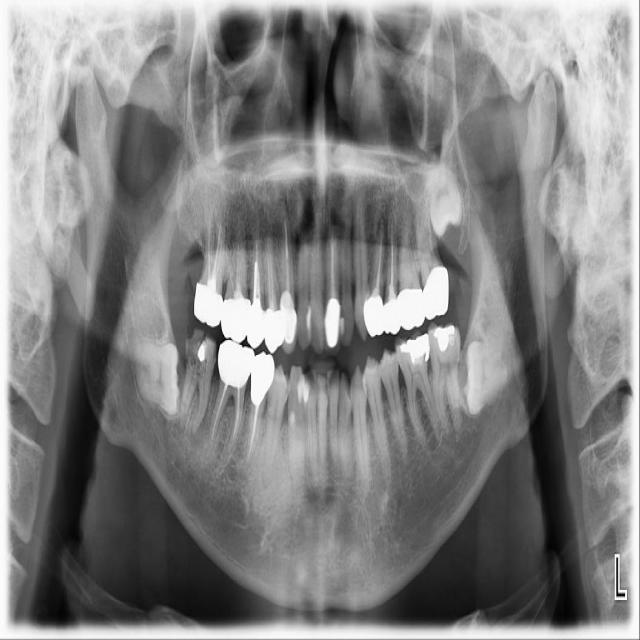52: (353, 261, 465, 347), (212, 292, 304, 359), (204, 334, 285, 408), (391, 327, 441, 388), (423, 317, 465, 367), (186, 326, 217, 381), (190, 283, 225, 331), (323, 300, 342, 354), (286, 364, 305, 418), (304, 368, 317, 418)
73: (203, 377, 248, 459), (221, 213, 249, 301), (274, 197, 295, 314), (234, 400, 265, 476), (197, 213, 224, 295), (365, 216, 389, 298), (245, 226, 266, 311), (260, 228, 278, 313), (324, 224, 340, 304), (383, 207, 397, 297), (590, 571, 593, 580)
BioHorizons Implant: (409, 183, 455, 320)
BioLife Implant: (418, 153, 468, 238)
Biomet 3i Implant: (465, 339, 507, 412)
Blue Sky Bio Implant: (425, 318, 468, 431)
Caries: (193, 211, 229, 330)
Implant: (178, 328, 217, 437)
Keystone Dental Implant: (133, 337, 181, 418)
